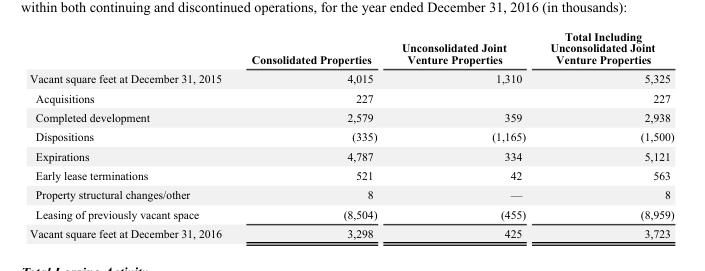table: (29, 29, 673, 239)
table column: (29, 29, 235, 239), (235, 29, 388, 239), (388, 29, 537, 239), (537, 29, 673, 239)
table column header: (29, 29, 673, 68)
table row: (29, 29, 673, 68), (29, 87, 673, 107), (29, 126, 673, 146), (29, 184, 673, 204), (29, 68, 673, 87), (29, 107, 673, 126), (29, 146, 673, 165), (29, 165, 673, 184), (29, 204, 673, 223), (29, 223, 673, 239)
